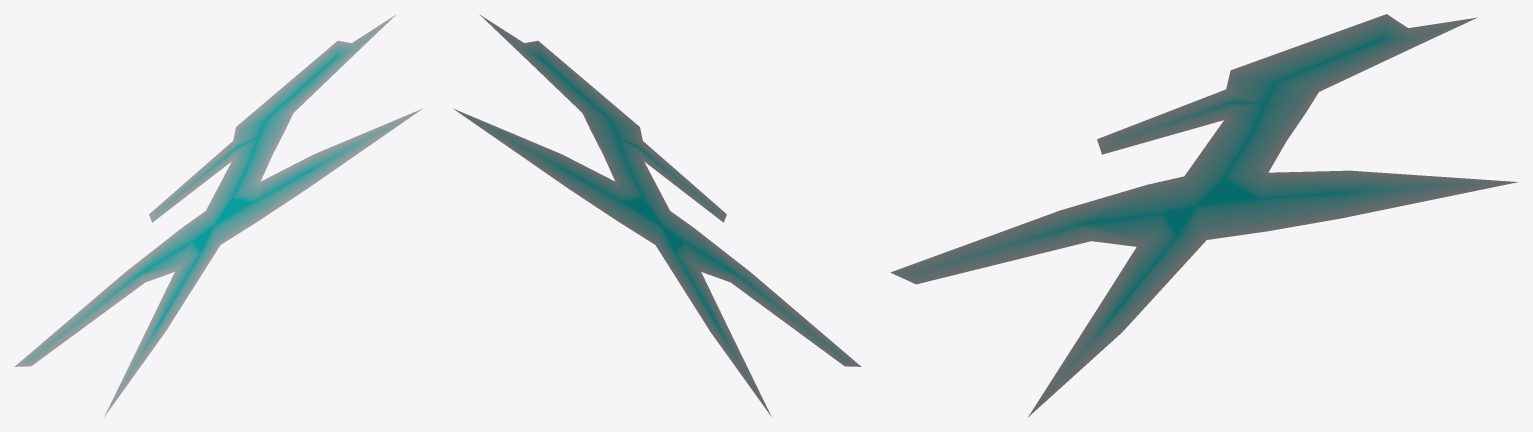
Rendered from SM_EFF_Text_Chidori_02.glb.
3 renders of one model, left to right at view 1: azimuth 30°, elevation 25°; view 2: azimuth 150°, elevation 25°; view 3: azimuth 330°, elevation 25°, orthographic. The views are drawn at different scales.
Visible parts, largest first — view 1: SM_EFF_Text_Chidori_02; view 2: SM_EFF_Text_Chidori_02; view 3: SM_EFF_Text_Chidori_02.
Part boxes in pixels (bbox=[...]): SM_EFF_Text_Chidori_02: bbox=[14, 14, 421, 416]; SM_EFF_Text_Chidori_02: bbox=[454, 14, 861, 416]; SM_EFF_Text_Chidori_02: bbox=[890, 14, 1517, 416].
Size of the model in its own units: 0.9764 by 0.7573 by 4.64e-17.
